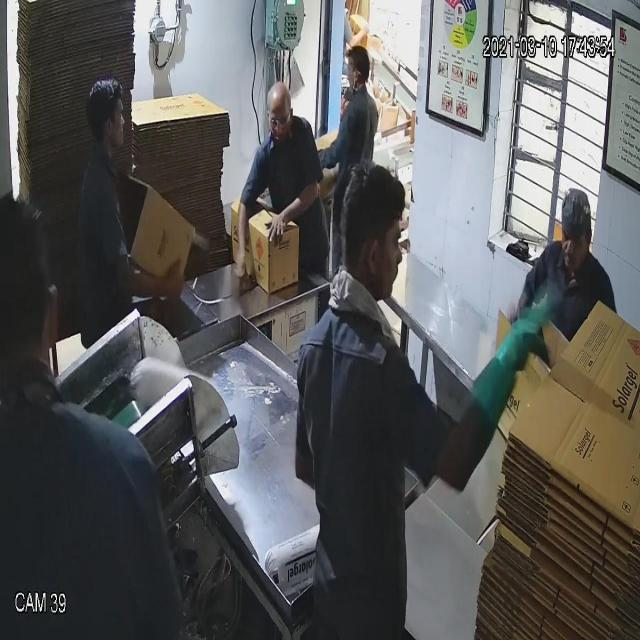No_Gloves: (58, 63, 505, 362)
